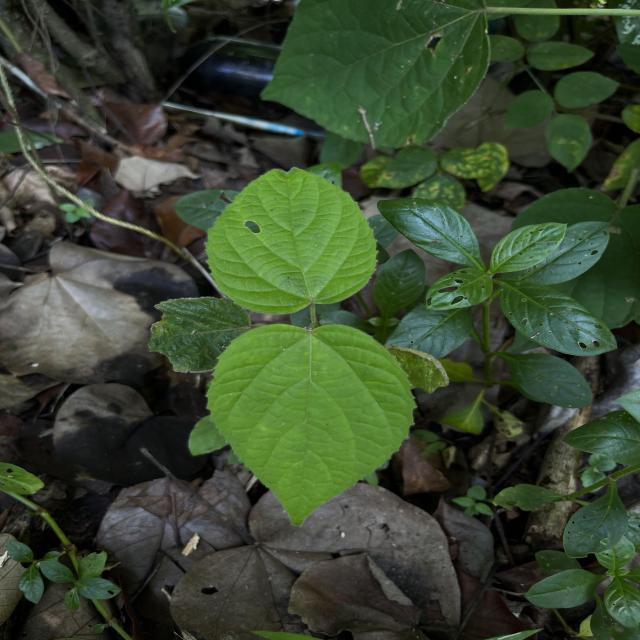Clerodendrum infortunatum: (202, 322, 421, 528), (204, 166, 380, 316)
